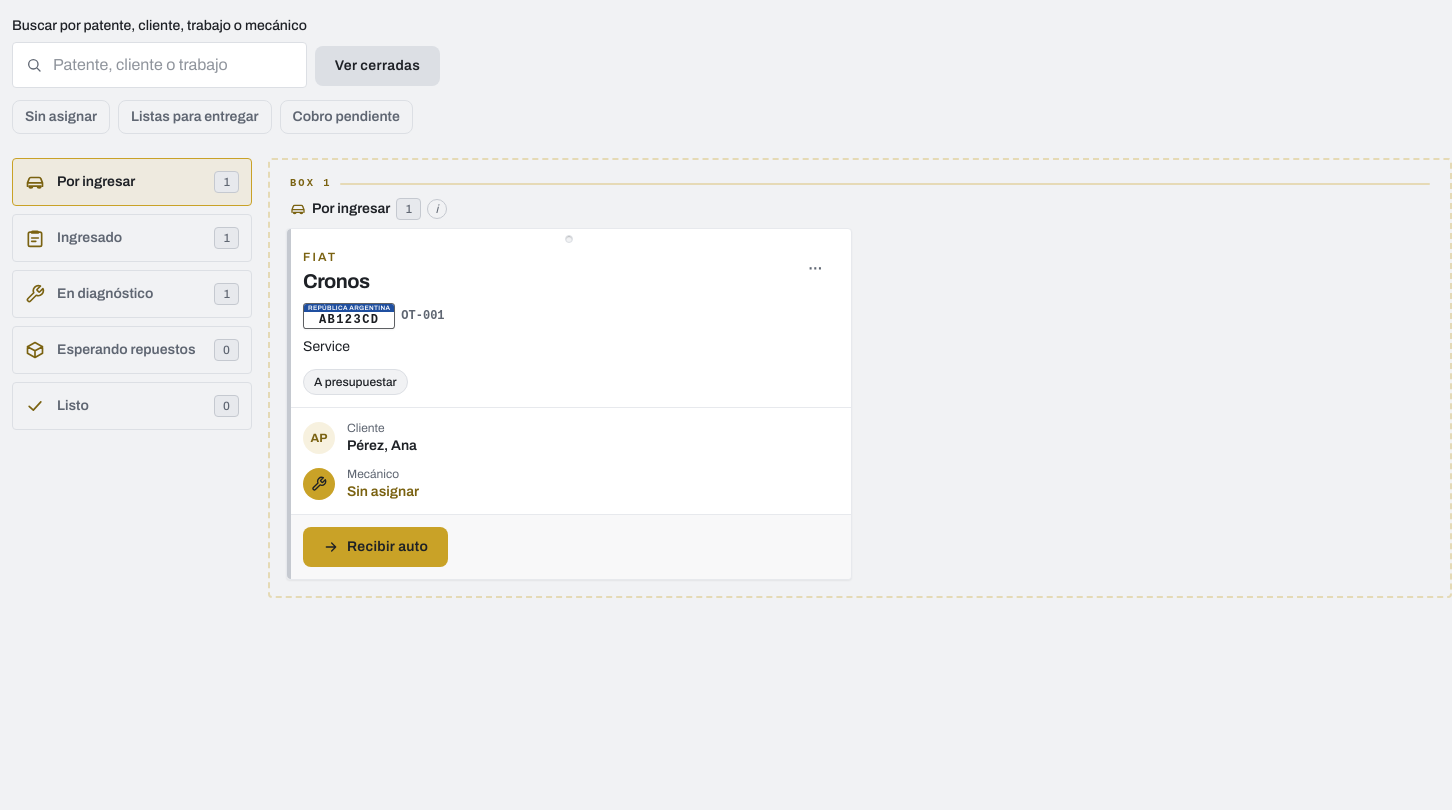
it: TableroOrdenes › agrupa las órdenes por etapa y despliega la activa con su contador
Check: the text "AB123CD" is shown, box [319, 313, 379, 327]
Check: the text "Service" is shown, box [303, 339, 350, 354]
Click the button with aria-label "Ver Ingresado" at (132, 238), box [12, 214, 252, 262]
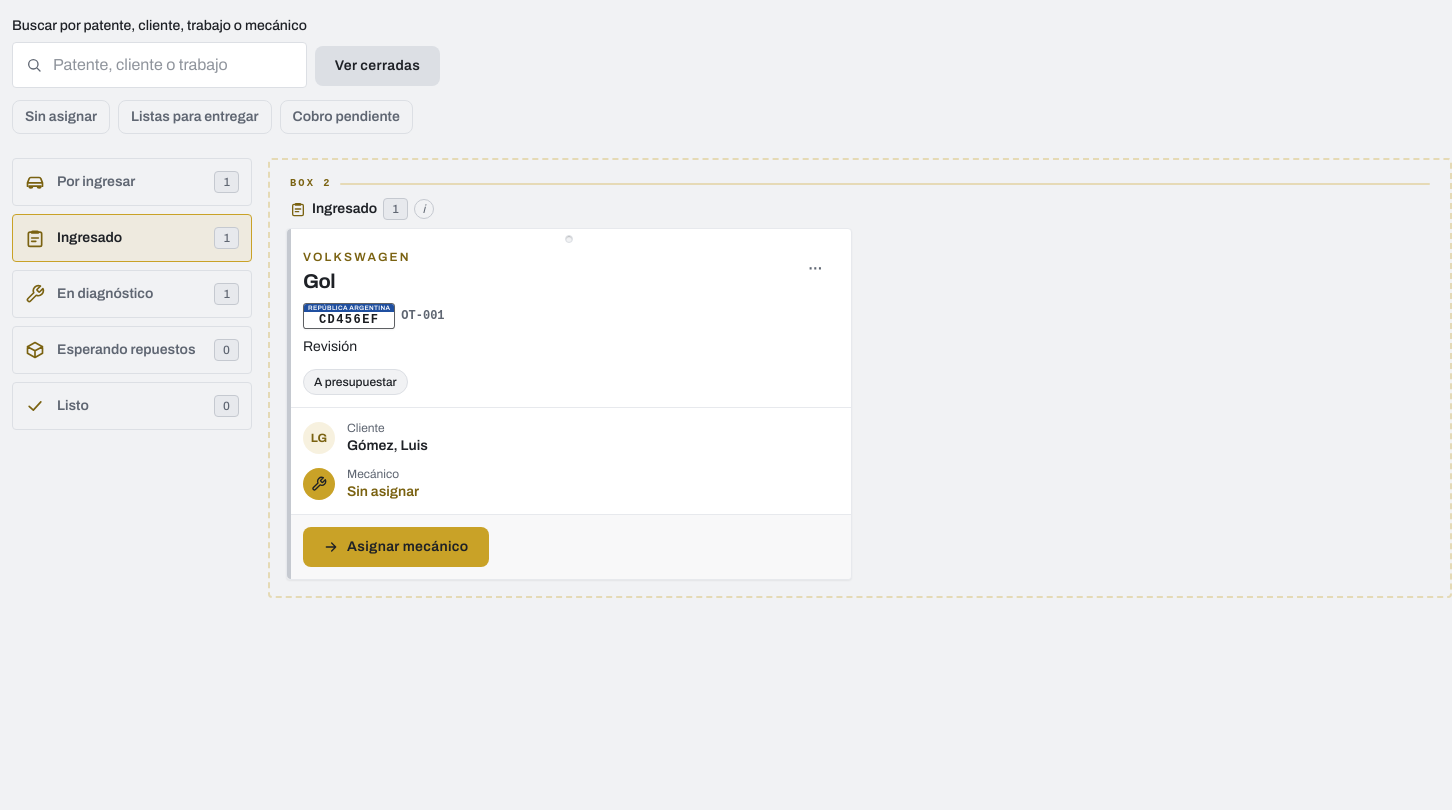
Check: the text "CD456EF" is shown, box [319, 313, 379, 327]
Check: the text "Revisión" is shown, box [303, 339, 357, 354]
Click the button with aria-label "Ver En diagnóstico" at (132, 294), box [12, 270, 252, 318]
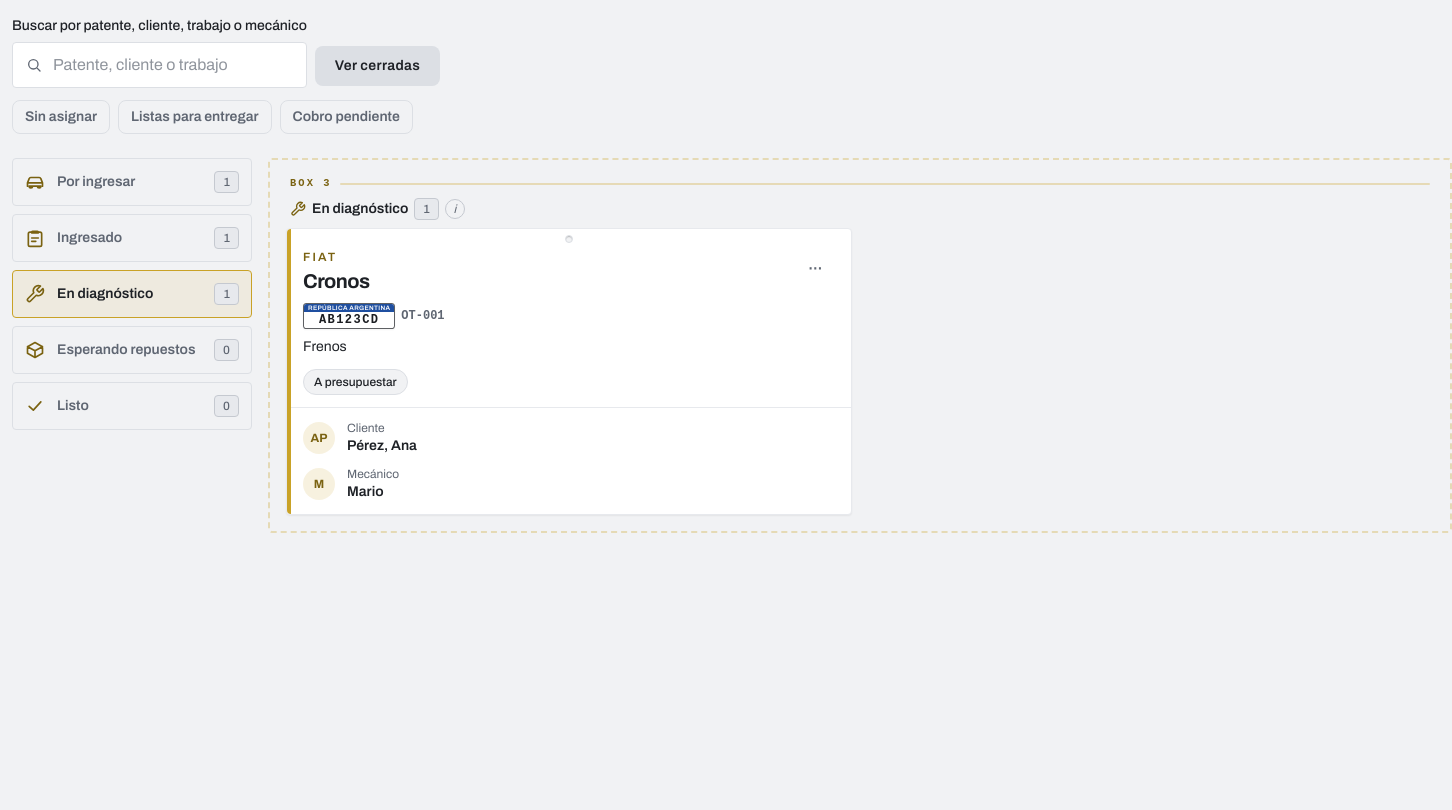
Check: the button with aria-label "Ver Por ingresar" shows "1", box [12, 158, 252, 206]
Check: the text "Frenos" is shown, box [303, 339, 347, 354]
Check: the text "Mario" is shown, box [347, 484, 384, 499]
